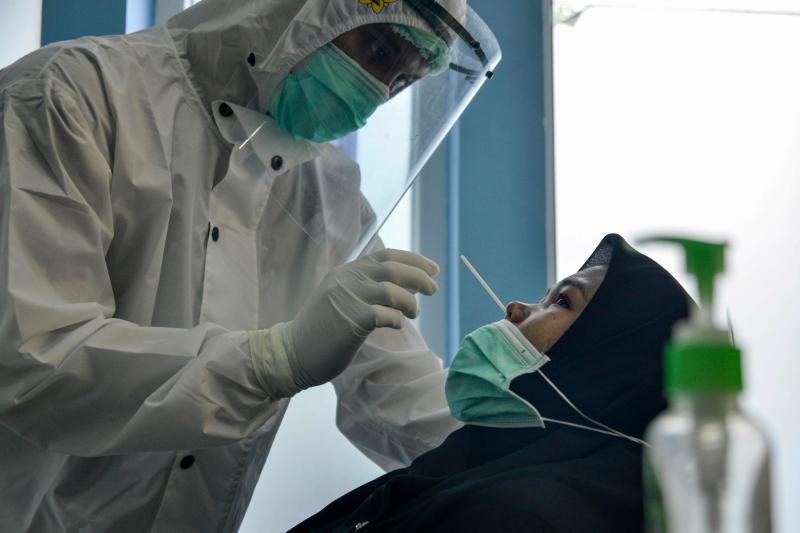Coverall: (1, 3, 530, 533)
Face_Shield: (238, 1, 509, 275)
Gloves: (247, 245, 444, 421)
mask_weared_incorrect: (440, 270, 599, 439)
with_mask: (270, 28, 451, 159)
